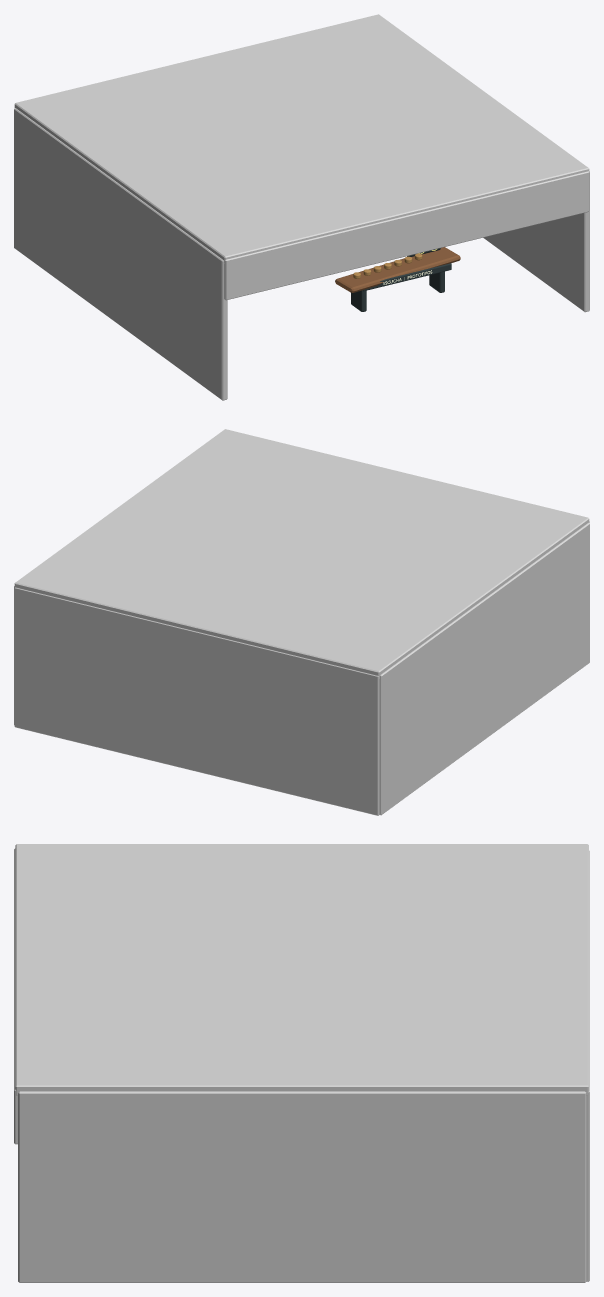
Rendered from beacon-workshop.glb.
3 renders of one model, top to bottom at view 1: azimuth 30°, elevation 25°; view 2: azimuth 150°, elevation 25°; view 3: azimuth 270°, elevation 25°, orthographic. The views are drawn at different scales.
Visible parts, largest first — view 1: Beacon workshop · Chalk limewash, Beacon workshop · Oiled smoked oak, Beacon workshop · Blue-black gunmetal; view 2: Beacon workshop · Chalk limewash; view 3: Beacon workshop · Chalk limewash.
Part boxes in pixels (x1,y1,x2,y2): Beacon workshop · Chalk limewash: (14,14,589,400); Beacon workshop · Oiled smoked oak: (335,247,460,292); Beacon workshop · Blue-black gunmetal: (351,248,451,311); Beacon workshop · Chalk limewash: (14,429,589,815); Beacon workshop · Chalk limewash: (14,844,589,1282).
Bounding box in the file's own units: 11.85 × 4.44 × 11.8.
